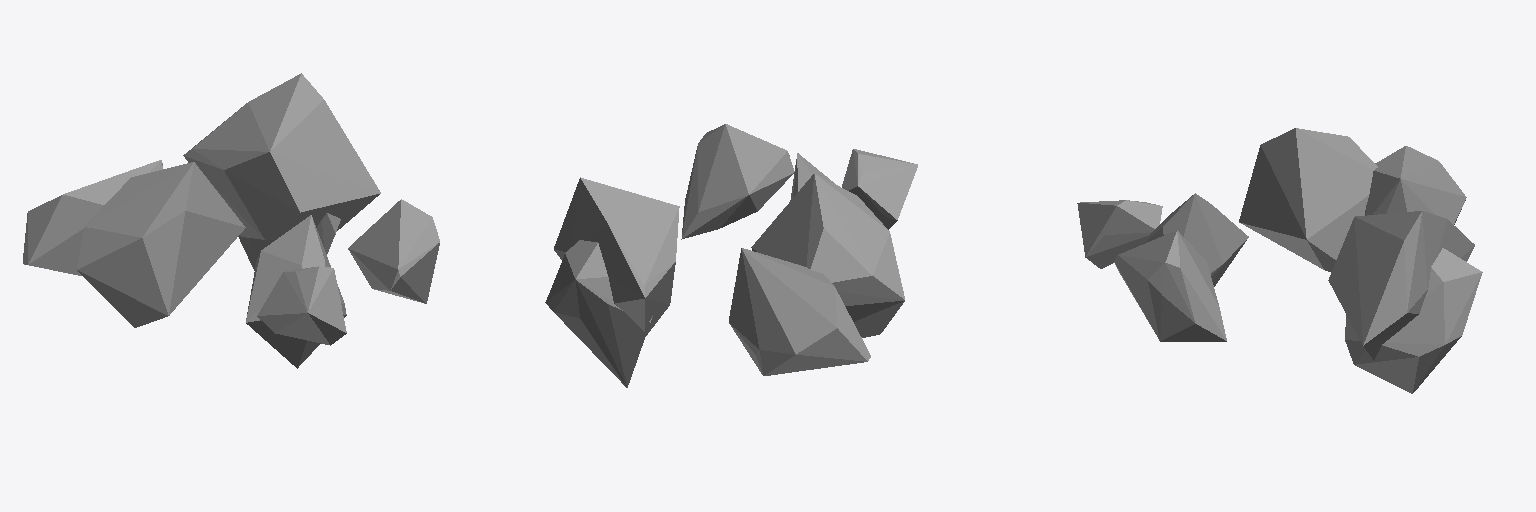
File: oreon-structure.obj
3 renders of one model, left to right at view 1: azimuth 30°, elevation 25°; view 2: azimuth 150°, elevation 25°; view 3: azimuth 270°, elevation 25°, orthographic.
Parts seen in each view (by area): view 1: OreonGround2, OreonGround1; view 2: OreonGround2, OreonGround1; view 3: OreonGround2, OreonGround1.
Part boxes in pixels (x1,y1,x2,y2): OreonGround2: (77,73,439,345); OreonGround1: (23,160,346,368); OreonGround2: (554,124,917,337); OreonGround1: (545,153,870,387); OreonGround2: (1077,128,1474,360); OreonGround1: (1141,146,1482,393).
Size of the model in its own units: 3.48 by 2.04 by 3.66.